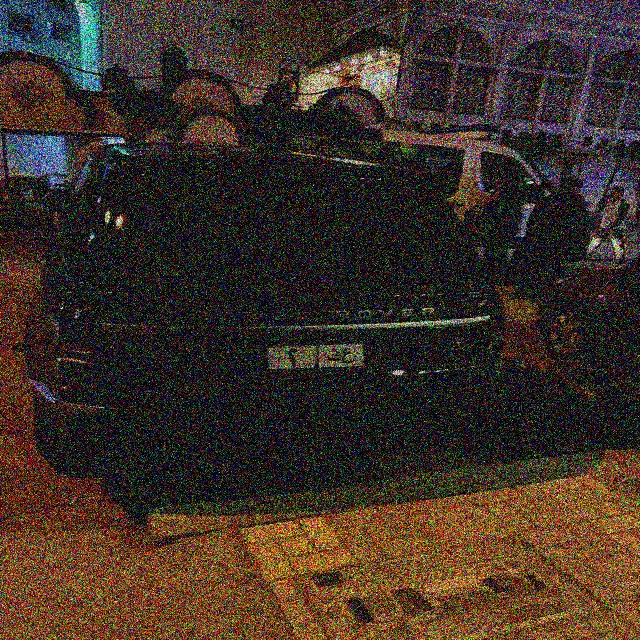License Plate: (263, 328, 368, 373)
